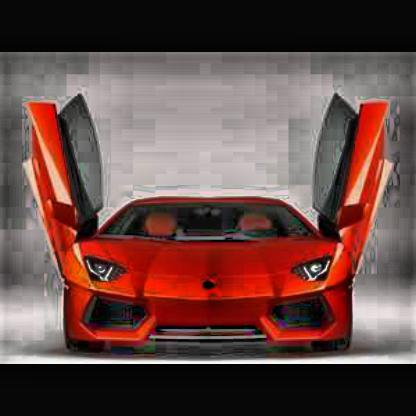Lamborghini Aventador Coupe 2012: (23, 102, 397, 365)
